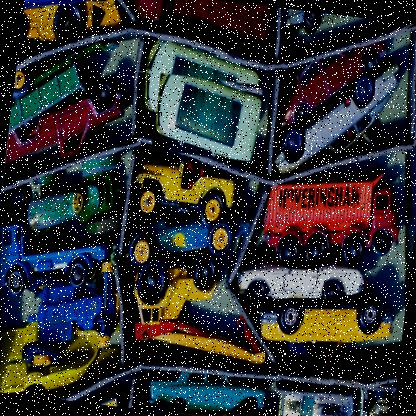Car: (0, 0, 415, 415), (151, 73, 263, 163)
